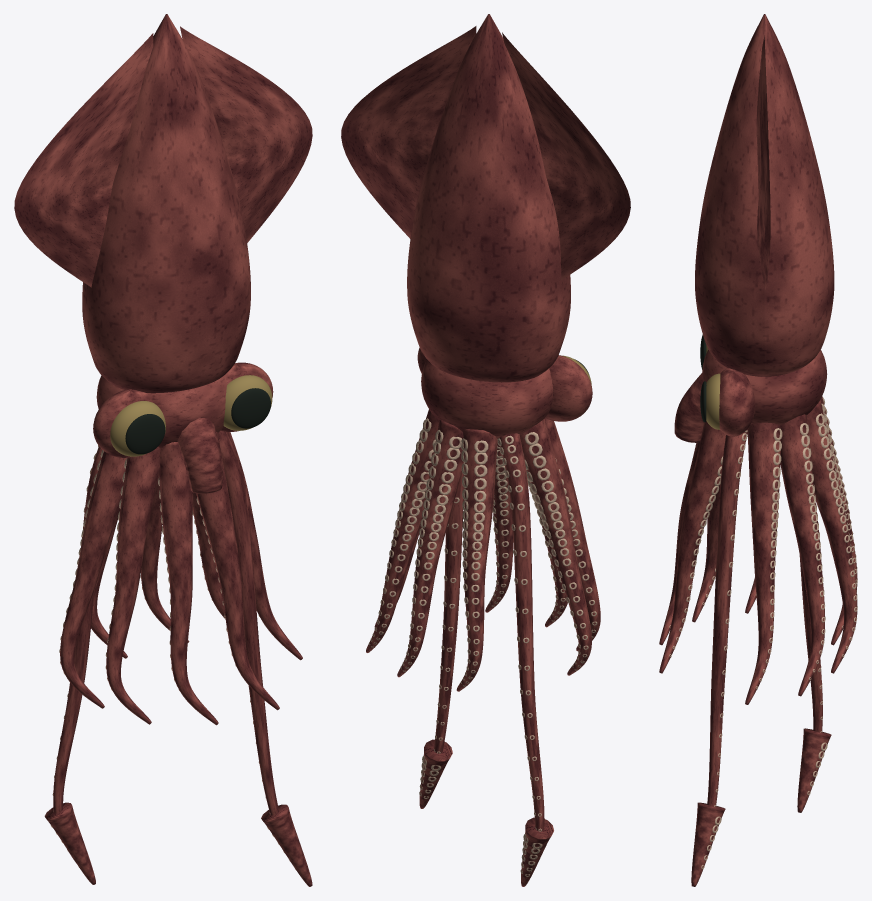
Rendered from squid.glb.
The picture shows the model from 3 angles, left to right: view 1: azimuth 30°, elevation 25°; view 2: azimuth 150°, elevation 25°; view 3: azimuth 270°, elevation 25°; orthographic projection. The views are drawn at different scales.
Parts seen in each view (by area): view 1: squid_anatomy, Mantle fin, Mantle fin.001, Squid arm.003, Squid arm.002, Squid arm.004, Feeding tentacle, Squid arm.001, Feeding tentacle.001, Squid arm.006, Squid arm, Tentacular club (+3 smaller); view 2: squid_anatomy, Mantle fin.001, Mantle fin, Feeding tentacle.001, Squid arm.005, Squid arm.004, Squid arm.006, Squid arm.007, Feeding tentacle, Squid arm.003, Squid arm.001, Tentacular club (+2 smaller); view 3: squid_anatomy, Squid arm, Squid arm.007, Feeding tentacle, Squid arm.006, Squid arm.001, Mantle fin.001, Tentacular club, Tentacular club.001, Squid arm.003, Feeding tentacle.001, Squid arm.005 (+1 smaller).
Part boxes in pixels (<box>): squid_anatomy: <box>82,14,273,493</box>; Mantle fin: <box>14,33,153,287</box>; Mantle fin.001: <box>180,26,312,242</box>; Squid arm.003: <box>105,446,160,724</box>; Squid arm.002: <box>158,442,218,725</box>; Squid arm.004: <box>59,450,127,708</box>; Feeding tentacle: <box>218,430,278,815</box>; Squid arm.001: <box>196,432,279,710</box>; Feeding tentacle.001: <box>52,445,101,862</box>; Squid arm.006: <box>140,482,189,642</box>; Squid arm: <box>226,432,302,660</box>; Tentacular club: <box>261,804,312,886</box>; squid_anatomy: <box>407,14,592,438</box>; Mantle fin.001: <box>341,26,476,238</box>; Mantle fin: <box>502,32,630,280</box>; Feeding tentacle.001: <box>497,433,544,872</box>; Squid arm.005: <box>456,429,497,691</box>; Squid arm.004: <box>519,419,591,675</box>; Squid arm.006: <box>397,420,462,677</box>; Squid arm.007: <box>366,409,439,652</box>; Feeding tentacle: <box>433,473,463,753</box>; Squid arm.003: <box>544,418,600,651</box>; Squid arm.001: <box>485,443,513,612</box>; Tentacular club: <box>419,739,452,808</box>; squid_anatomy: <box>674,14,834,442</box>; Squid arm: <box>745,422,782,704</box>; Squid arm.007: <box>780,414,825,696</box>; Feeding tentacle: <box>707,429,747,806</box>; Squid arm.006: <box>807,400,857,673</box>; Squid arm.001: <box>659,421,725,673</box>; Mantle fin.001: <box>756,35,770,289</box>; Tentacular club: <box>691,802,725,886</box>; Tentacular club.001: <box>797,728,831,812</box>; Squid arm.003: <box>692,440,746,622</box>; Feeding tentacle.001: <box>799,555,822,732</box>; Squid arm.005: <box>820,396,857,645</box>.
Bounding box in the file's own units: 2.71 × 7.56 × 1.65.
4 materials, 1 textured.
